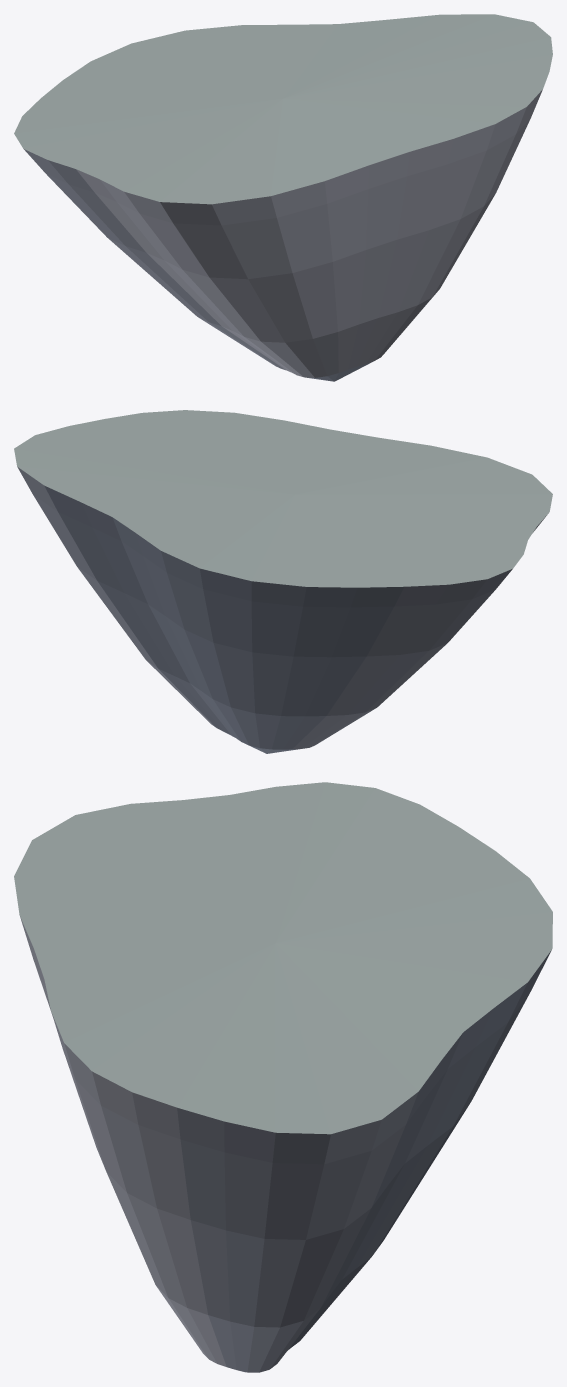
The model's file is mesa.glb.
The picture shows the model from 3 angles, top to bottom: view 1: azimuth 30°, elevation 25°; view 2: azimuth 150°, elevation 25°; view 3: azimuth 270°, elevation 25°; orthographic projection. The views are drawn at different scales.
Parts seen in each view (by area): view 1: LOD0; view 2: LOD0; view 3: LOD0.
Part boxes in pixels (box(x1,y1,x2,y2)): LOD0: box(14, 14, 552, 381); LOD0: box(14, 410, 552, 753); LOD0: box(14, 782, 552, 1372).
Size of what is drawn, in the model's own units: 61.06 by 32.45 by 39.5.
